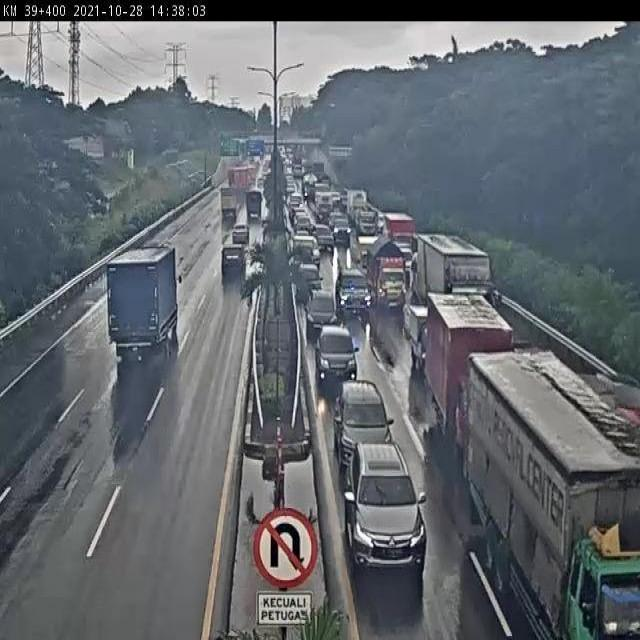big truck: (461, 340, 640, 640), (421, 292, 522, 456), (409, 225, 508, 319)
car: (336, 436, 433, 584), (326, 373, 397, 472), (309, 320, 360, 392), (402, 297, 437, 380), (331, 267, 376, 325), (302, 286, 342, 338), (217, 255, 246, 297), (228, 220, 253, 255)
small truck: (97, 236, 181, 372), (370, 238, 411, 322), (214, 180, 242, 228), (241, 188, 267, 231)
